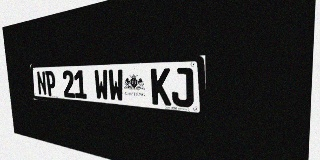1: (73, 70, 87, 99)
2: (62, 70, 75, 98)
J: (171, 68, 194, 108)
K: (151, 68, 171, 106)
N: (36, 71, 47, 96)
P: (45, 71, 57, 96)
W: (108, 69, 124, 102), (94, 70, 109, 101)
